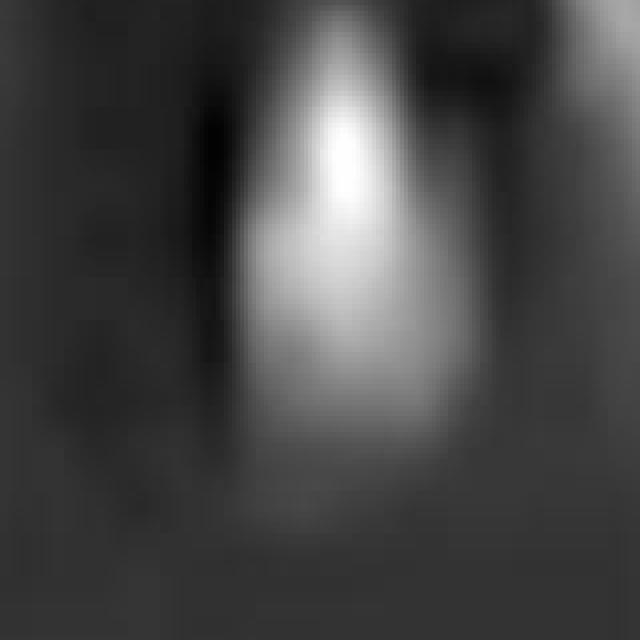person: (193, 1, 489, 449), (485, 1, 640, 422)
